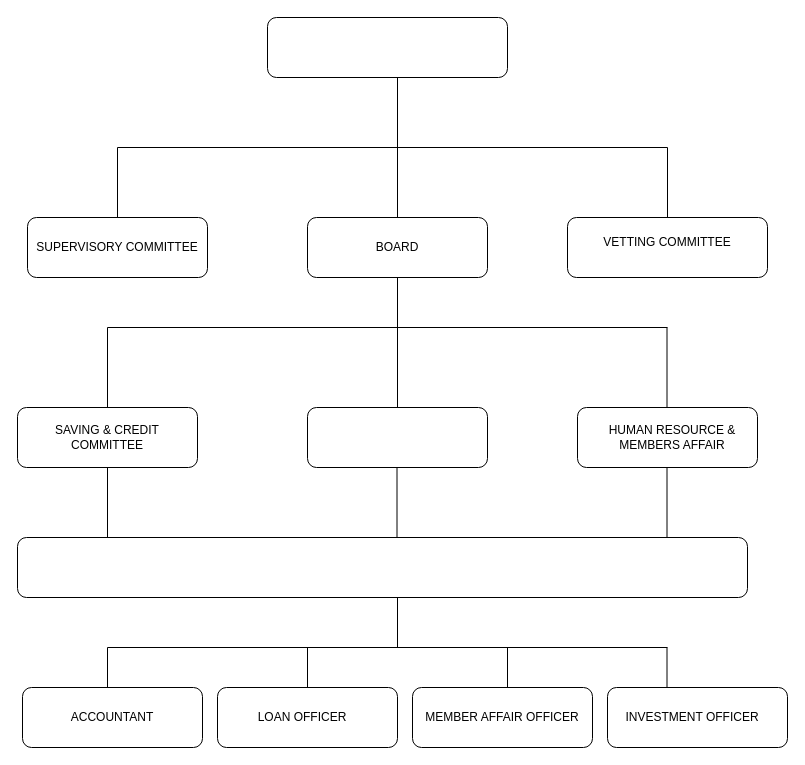
The diagram is 805 pixels wide and 765 high, and some of its shapes have lost their labels. The shapes that lost their labels are listed below. From the top down, each one's centre as x and y in pixels, then its label:
At pixel 387 47: "ANNUAL GENERAL MEETING".
At pixel 397 437: "FINANCE & INVESTMENT COMMITTEE".
At pixel 382 567: "MANAGEMENT".
